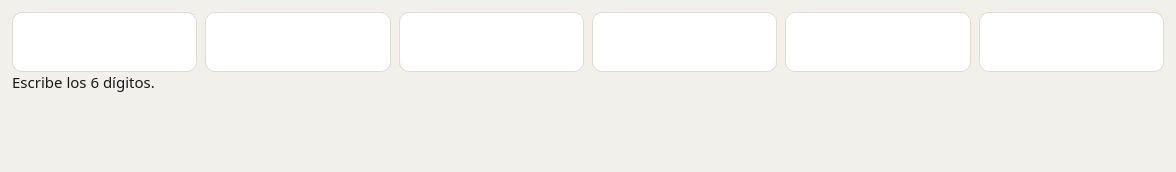
Test case: CodeInput › fills all boxes on paste
Click the field named "Dígito 1" at (105, 42), box [12,12,197,72]
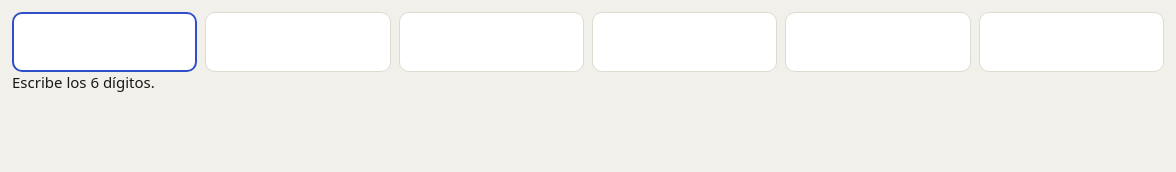
Type keys "000000"
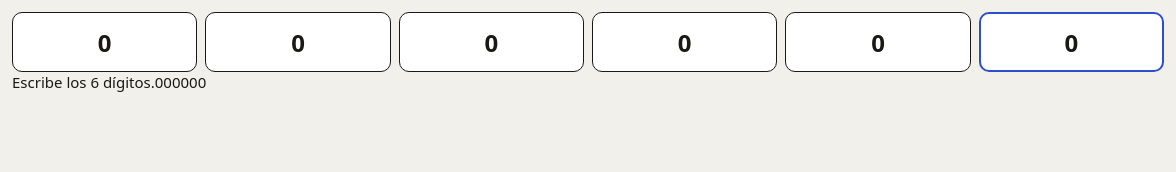
Check: the text "000000" is shown, box [155,72,206,92]
